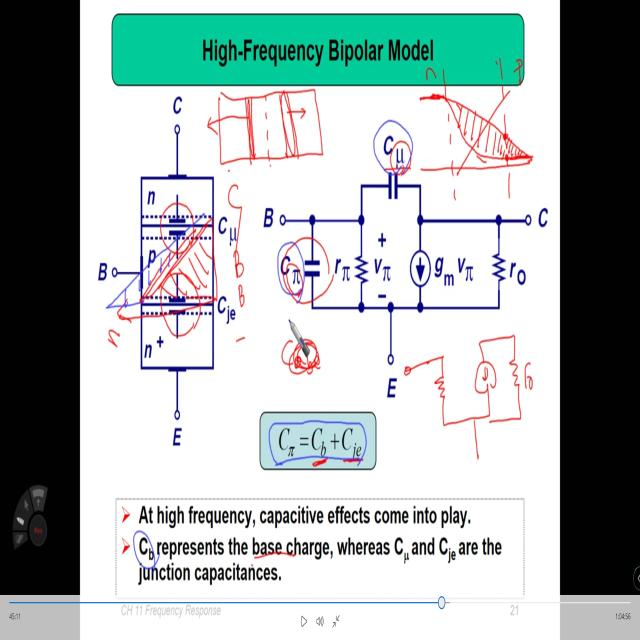panseo: (398, 334, 545, 473), (415, 58, 540, 204), (198, 84, 337, 178), (225, 178, 258, 360)
